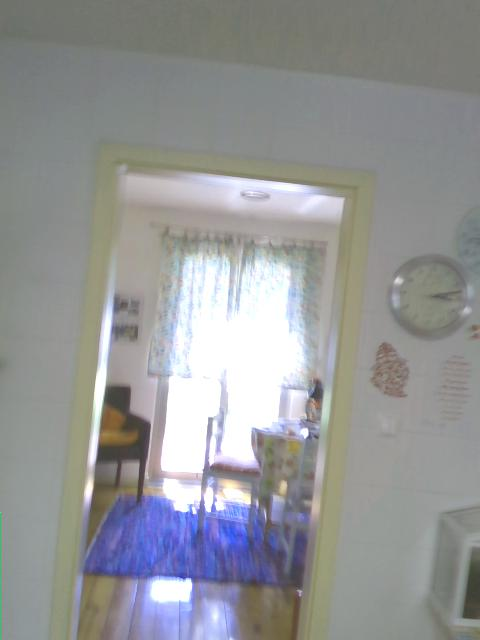open_door: (45, 137, 376, 639)
